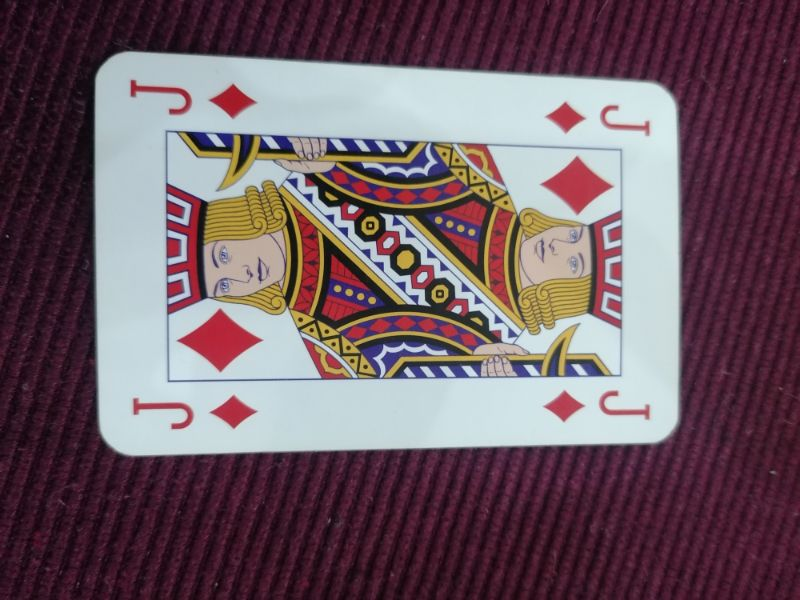Jd: (125, 75, 262, 122), (126, 389, 262, 435), (543, 92, 656, 143), (538, 387, 659, 429)
